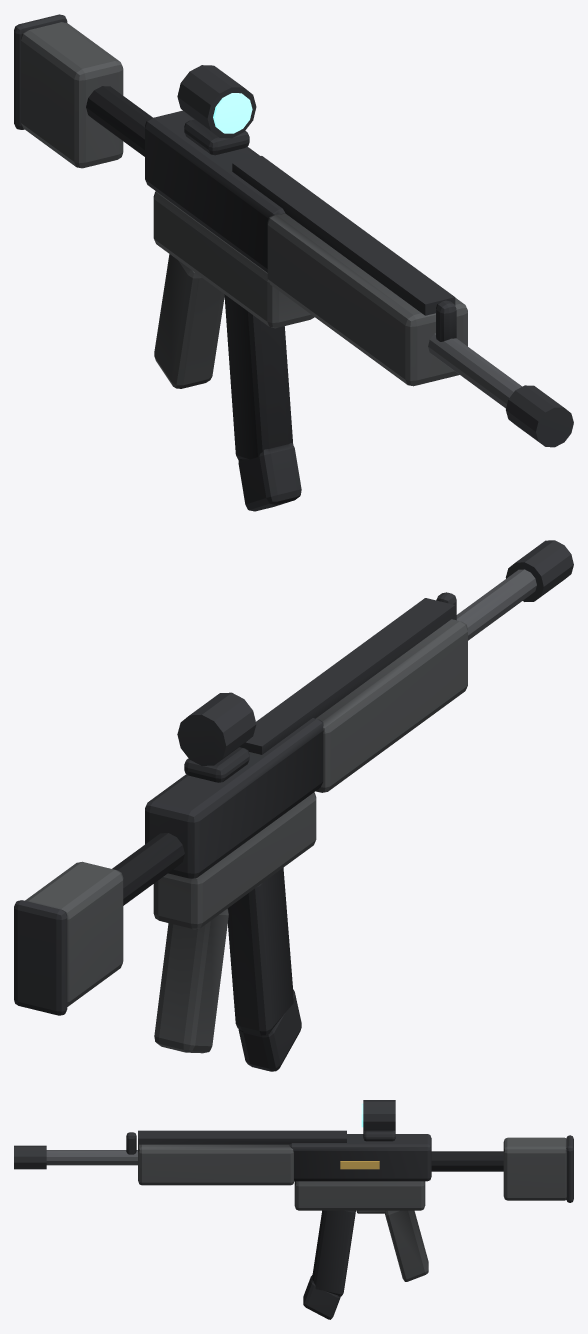
Rendered from ar7_lance.glb.
The picture shows the model from 3 angles, top to bottom: view 1: azimuth 30°, elevation 25°; view 2: azimuth 150°, elevation 25°; view 3: azimuth 270°, elevation 25°; orthographic projection. The views are drawn at different scales.
Visible parts, largest first — view 1: ar7_lance, mag; view 2: ar7_lance, mag; view 3: ar7_lance, mag.
Boxes of the visible parts, x1,y1,x2,y2 form: ar7_lance: (14, 14, 573, 447); mag: (224, 294, 301, 511); ar7_lance: (14, 540, 573, 1053); mag: (227, 867, 301, 1071); ar7_lance: (14, 1100, 573, 1281); mag: (303, 1210, 355, 1319).
Bounding box in the file's own units: 0.0598 × 0.3642 × 0.858.
